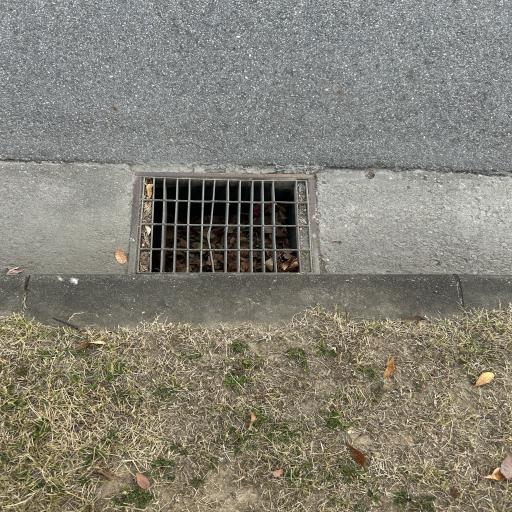drain: (135, 175, 316, 274)
